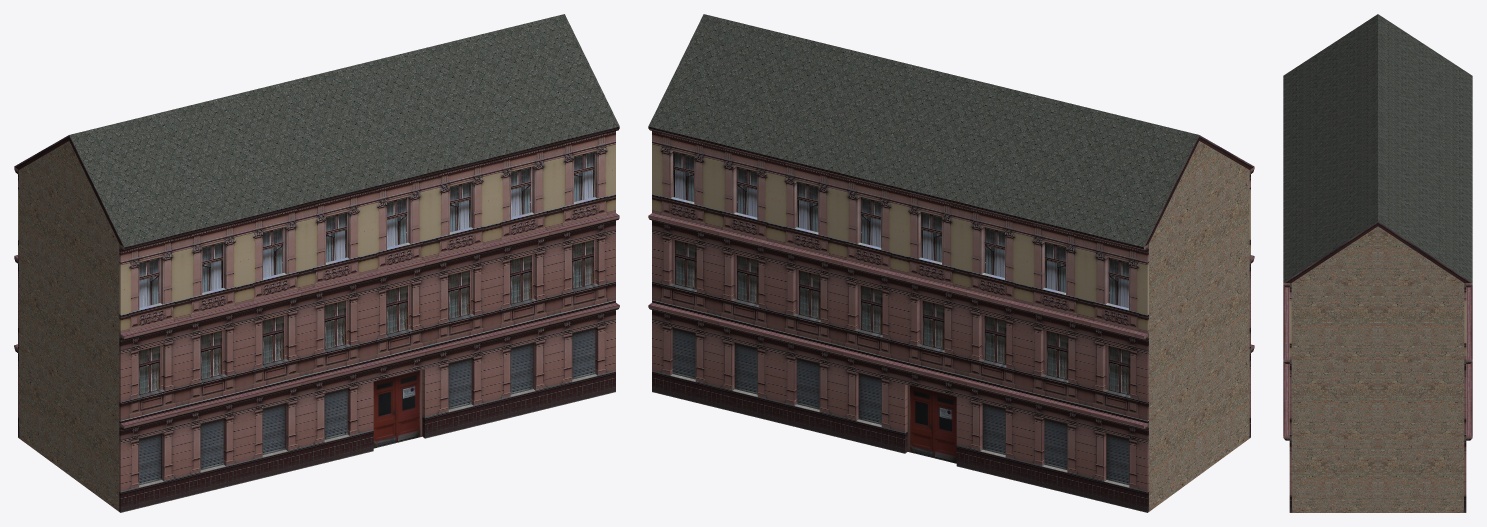
The model's file is PBP1_Building2_2sided.fbx.
The picture shows the model from 3 angles, left to right: view 1: azimuth 30°, elevation 25°; view 2: azimuth 150°, elevation 25°; view 3: azimuth 270°, elevation 25°; orthographic projection. The views are drawn at different scales.
Parts seen in each view (by area): view 1: PBP1_Building2_2sided; view 2: PBP1_Building2_2sided; view 3: PBP1_Building2_2sided.
Part boxes in pixels (x1,y1,x2,y2): PBP1_Building2_2sided: (14,14,619,512); PBP1_Building2_2sided: (648,14,1254,512); PBP1_Building2_2sided: (1283,14,1472,512).
Bounding box in the file's own units: 751 × 1942 × 1274.
